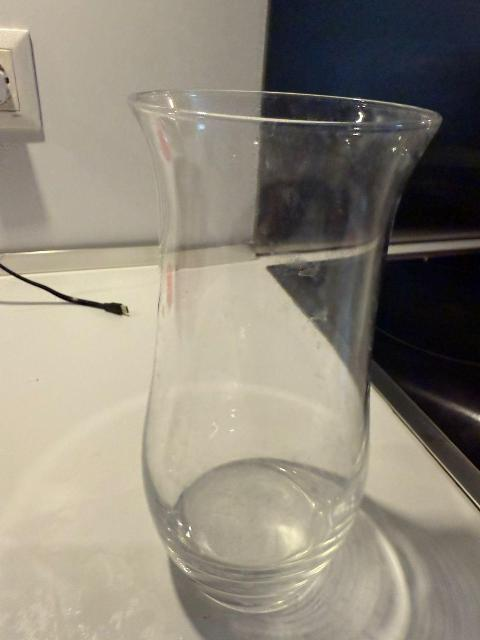Cam: (121, 75, 445, 593)
